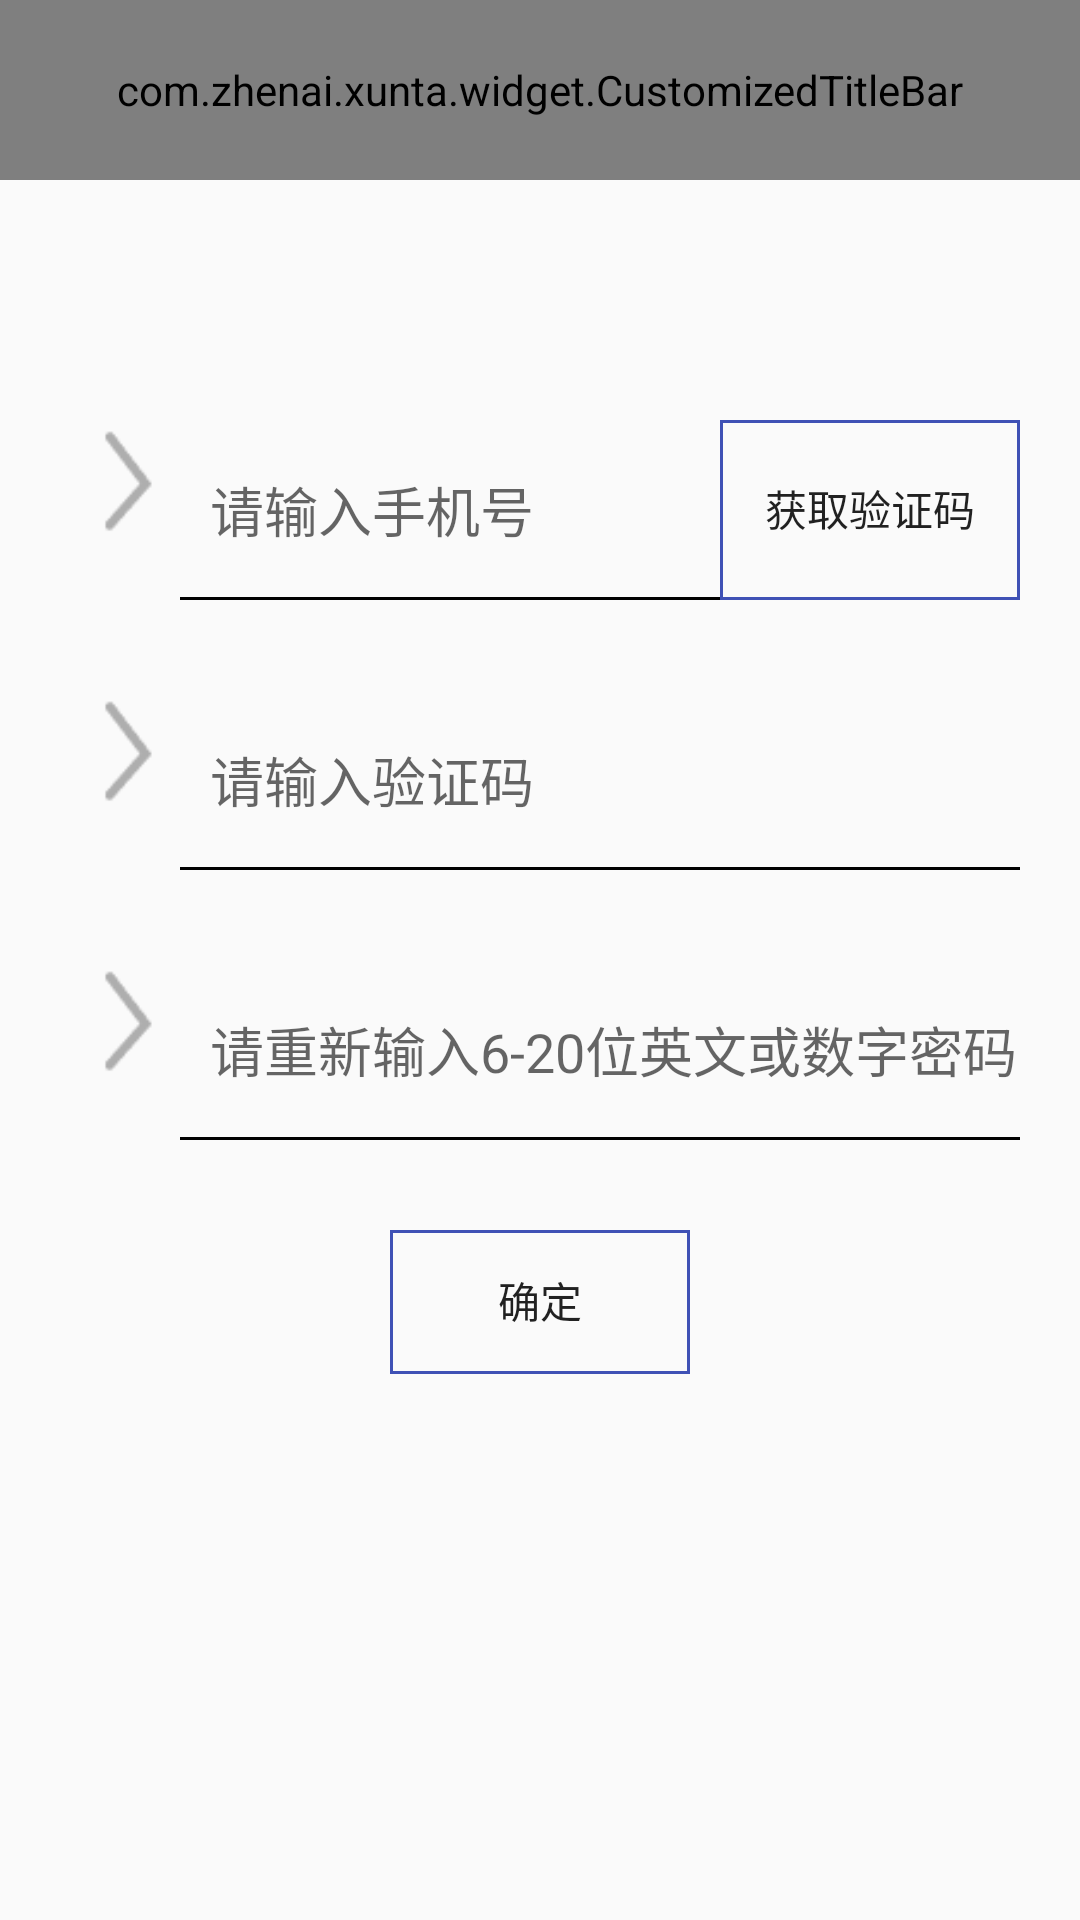

Screen size 1080w x 1920h. Icon name, then its box in pixels as [left=x1, top=y1, right=x2, bottom=y2]:
arrow: [left=105, top=432, right=152, bottom=531], [left=105, top=702, right=152, bottom=801], [left=105, top=972, right=152, bottom=1071]
